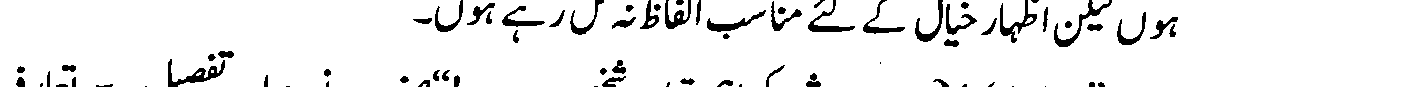bay_shosha: (702, 15, 746, 43)
